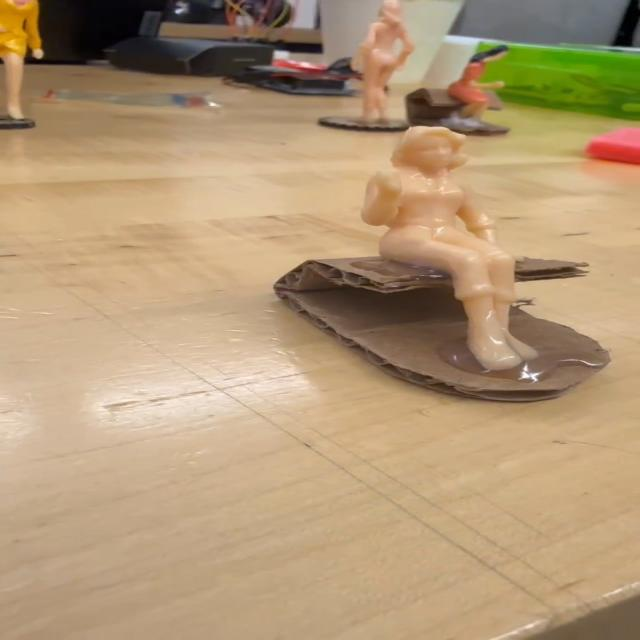Unauthorized: (327, 113, 577, 374)
